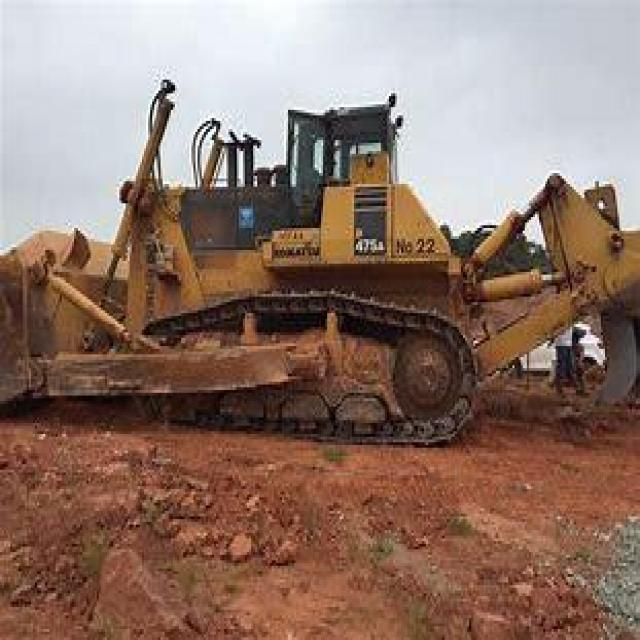Bulldozer: (6, 80, 638, 462)
